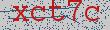7: (66, 1, 83, 27)
c: (84, 2, 103, 25), (30, 4, 48, 27)
t: (48, 1, 67, 26)
x: (12, 1, 30, 27)
